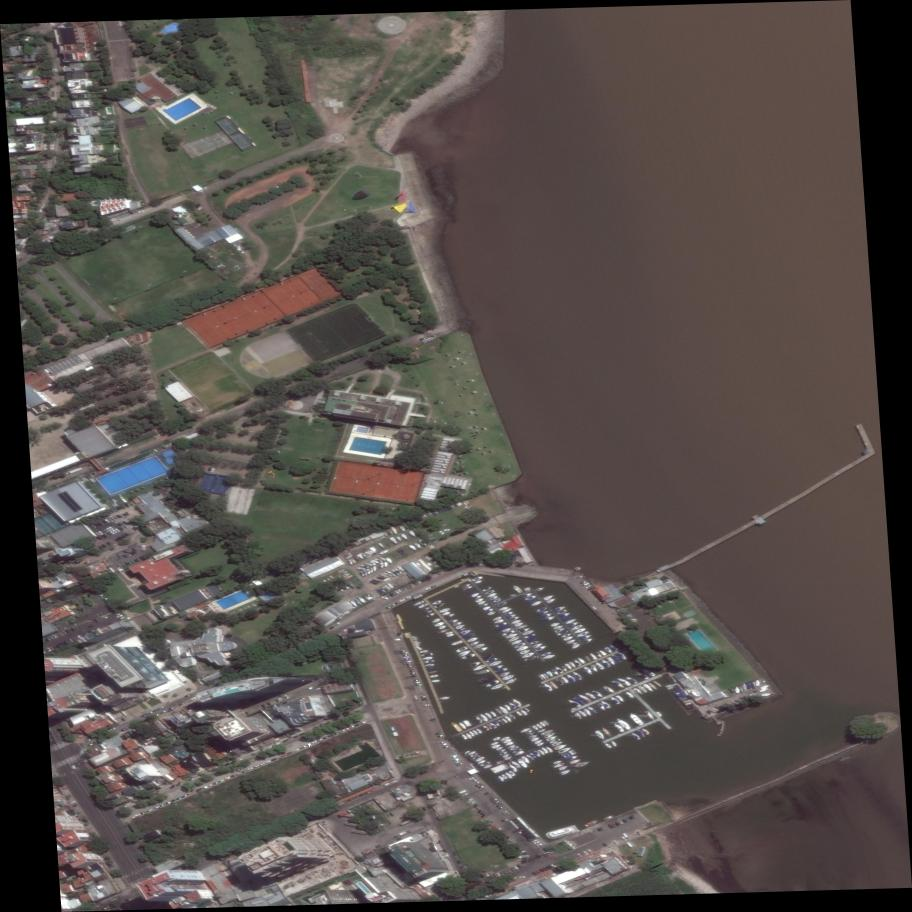large-vehicle: (141, 545, 146, 551)
ship: (544, 823, 580, 841), (626, 710, 645, 728), (614, 715, 632, 733), (450, 719, 464, 735), (615, 676, 633, 688), (642, 708, 656, 723), (634, 669, 651, 681), (612, 721, 626, 735), (593, 728, 607, 742), (576, 692, 592, 704), (567, 697, 583, 709), (510, 583, 524, 596), (600, 725, 613, 739), (571, 669, 584, 683), (564, 672, 578, 685), (613, 692, 627, 705), (599, 698, 613, 711), (594, 700, 608, 713), (510, 696, 523, 710), (573, 759, 591, 769), (641, 667, 657, 678), (484, 678, 500, 689), (457, 647, 473, 658), (583, 818, 599, 829), (593, 659, 606, 672), (642, 681, 655, 694), (609, 694, 622, 707), (586, 703, 599, 716), (516, 757, 529, 770), (520, 650, 536, 660), (500, 628, 516, 638), (610, 680, 626, 690), (640, 725, 652, 738), (616, 650, 629, 662), (610, 652, 622, 665), (600, 657, 612, 670), (587, 662, 599, 675), (582, 664, 594, 677), (637, 683, 649, 696), (581, 706, 593, 719), (625, 674, 639, 685), (509, 759, 523, 770), (557, 610, 572, 620), (552, 742, 567, 752), (539, 728, 554, 738), (523, 653, 538, 663), (590, 689, 605, 699), (554, 676, 566, 688), (634, 728, 646, 740), (630, 730, 642, 742), (553, 664, 565, 676), (605, 655, 617, 667), (471, 663, 487, 672), (460, 652, 476, 661), (497, 704, 509, 716), (576, 708, 589, 719), (534, 643, 548, 653), (570, 623, 584, 633), (507, 634, 521, 644), (602, 684, 616, 694), (572, 626, 587, 635), (557, 746, 572, 755), (542, 731, 557, 740), (515, 644, 530, 653), (512, 641, 527, 650), (488, 659, 503, 668), (462, 631, 477, 640), (542, 682, 554, 693), (559, 674, 570, 686), (647, 681, 659, 692), (573, 710, 584, 722), (417, 537, 428, 549), (520, 753, 531, 765), (508, 762, 519, 774), (506, 700, 518, 711), (493, 706, 505, 717), (462, 718, 473, 730), (518, 625, 531, 635), (585, 691, 598, 701), (482, 652, 495, 662), (436, 627, 452, 635), (523, 593, 537, 602), (576, 630, 590, 639), (542, 614, 556, 623), (509, 638, 523, 647), (469, 660, 483, 669), (455, 645, 469, 654), (501, 673, 515, 682), (498, 669, 512, 678), (475, 645, 489, 654), (576, 655, 587, 666), (633, 686, 644, 697), (624, 689, 635, 700), (388, 535, 399, 546), (407, 529, 418, 540), (503, 770, 514, 781), (536, 609, 551, 617), (578, 633, 593, 641), (552, 605, 567, 613), (504, 632, 519, 640), (493, 621, 508, 629), (608, 643, 620, 653), (475, 668, 490, 676), (479, 711, 489, 723), (531, 641, 544, 650), (495, 600, 508, 609), (564, 617, 577, 626), (542, 593, 555, 602), (553, 761, 566, 770), (559, 768, 572, 777), (545, 734, 558, 743), (505, 677, 518, 686), (495, 666, 508, 675), (492, 663, 505, 672), (523, 632, 537, 640), (520, 591, 534, 599), (521, 629, 535, 637), (555, 629, 569, 637), (550, 740, 564, 748), (548, 737, 562, 745), (518, 648, 532, 656), (580, 637, 594, 645), (490, 683, 504, 691), (472, 642, 486, 650), (652, 679, 663, 689), (588, 651, 598, 662), (572, 657, 582, 668), (550, 667, 560, 678), (603, 645, 614, 655), (408, 542, 418, 553), (496, 773, 506, 784), (536, 747, 546, 758), (540, 745, 550, 756), (502, 702, 512, 713), (474, 714, 484, 725), (458, 720, 468, 731), (505, 612, 517, 621), (530, 599, 542, 608), (554, 626, 566, 635), (482, 762, 494, 771), (541, 653, 556, 660), (540, 650, 553, 658), (507, 615, 520, 623), (535, 606, 548, 614), (567, 620, 580, 628), (565, 638, 578, 646), (471, 575, 484, 583), (412, 599, 425, 607), (450, 639, 463, 647), (433, 621, 446, 629), (478, 760, 491, 768), (485, 656, 498, 664), (466, 636, 479, 644), (459, 628, 472, 636), (453, 623, 466, 631), (450, 620, 463, 628), (443, 612, 456, 620), (430, 598, 443, 606), (433, 601, 446, 609), (598, 648, 608, 658), (564, 661, 574, 671), (545, 669, 555, 679), (357, 595, 367, 605), (525, 752, 535, 762), (507, 768, 517, 778), (532, 749, 542, 759), (545, 744, 555, 754), (504, 714, 514, 724), (488, 709, 498, 719), (488, 720, 498, 730), (390, 568, 401, 577), (390, 525, 399, 536), (474, 755, 485, 764), (520, 707, 529, 718), (335, 584, 346, 593), (515, 623, 529, 630), (556, 608, 568, 616), (545, 597, 557, 605), (562, 634, 574, 642), (567, 754, 579, 762), (491, 615, 503, 623), (759, 683, 771, 691), (343, 573, 355, 581), (379, 548, 391, 556), (529, 736, 541, 744), (519, 726, 531, 734), (513, 749, 525, 757), (494, 759, 506, 767), (540, 612, 553, 619), (560, 632, 573, 639), (549, 621, 562, 628), (500, 627, 513, 634), (438, 607, 451, 614), (593, 650, 603, 659), (568, 660, 577, 670), (385, 556, 394, 566), (400, 532, 409, 542), (528, 751, 538, 760), (484, 711, 493, 721), (464, 731, 473, 741), (498, 605, 509, 613), (571, 642, 582, 650), (486, 591, 497, 599), (470, 591, 481, 599), (558, 764, 569, 772), (481, 585, 492, 593), (533, 738, 544, 746), (431, 617, 442, 625), (501, 607, 513, 614), (569, 758, 581, 765), (462, 585, 474, 592), (483, 589, 495, 596), (493, 618, 505, 625), (420, 652, 434, 658), (511, 747, 523, 754), (508, 745, 520, 752), (448, 618, 460, 625), (440, 610, 452, 617), (535, 722, 544, 731), (604, 741, 613, 750), (500, 772, 509, 781), (508, 712, 517, 721), (487, 609, 497, 617), (353, 598, 363, 606), (438, 623, 448, 631), (528, 733, 538, 741), (525, 731, 535, 739), (497, 718, 505, 728), (534, 586, 545, 593), (513, 621, 524, 628), (568, 641, 579, 648), (492, 597, 503, 604), (488, 594, 499, 601), (461, 582, 472, 589), (536, 727, 547, 734), (474, 597, 485, 604), (479, 602, 490, 609), (477, 599, 488, 606), (386, 570, 397, 577), (395, 565, 406, 572), (476, 758, 487, 765), (504, 740, 515, 747), (502, 738, 513, 745), (500, 735, 511, 742), (491, 743, 502, 750), (510, 619, 522, 625), (552, 625, 564, 631), (542, 719, 550, 728), (610, 739, 618, 748), (560, 664, 568, 673), (350, 599, 358, 608), (423, 659, 435, 665), (394, 567, 403, 575), (377, 542, 386, 550), (414, 541, 422, 550), (399, 524, 407, 533), (501, 716, 509, 725), (515, 709, 523, 718), (461, 732, 469, 741), (468, 729, 476, 738), (475, 727, 484, 735), (504, 610, 514, 617), (482, 605, 492, 612), (759, 687, 769, 694), (341, 572, 351, 579), (421, 606, 431, 613), (469, 751, 479, 758), (503, 755, 513, 762), (499, 750, 509, 757), (497, 748, 507, 755), (492, 735, 502, 742), (470, 640, 480, 647), (423, 609, 434, 615), (418, 603, 429, 609), (438, 696, 451, 701), (539, 720, 547, 728), (655, 710, 663, 718), (531, 724, 539, 732), (387, 581, 395, 589), (383, 583, 391, 591), (395, 535, 403, 543), (493, 720, 501, 728), (485, 723, 493, 731), (482, 724, 490, 732), (485, 607, 494, 614), (536, 741, 545, 748), (749, 681, 756, 690), (337, 567, 346, 574), (368, 560, 377, 567), (344, 554, 353, 561), (502, 752, 511, 759), (472, 728, 479, 737), (458, 789, 468, 795), (553, 759, 563, 765), (473, 579, 483, 585), (426, 612, 436, 618), (364, 550, 374, 556), (358, 552, 368, 558), (428, 669, 438, 675), (467, 750, 477, 756), (507, 743, 517, 749), (490, 741, 500, 747), (357, 553, 365, 560), (350, 557, 357, 565), (347, 558, 354, 566), (322, 578, 330, 585), (343, 584, 351, 591), (529, 640, 540, 645), (419, 649, 430, 654), (422, 656, 433, 661), (474, 594, 483, 600), (340, 570, 349, 576), (366, 548, 375, 554), (378, 556, 387, 562), (379, 574, 389, 579), (360, 564, 370, 569), (446, 633, 456, 638), (429, 674, 439, 679), (369, 580, 379, 585), (377, 588, 384, 595), (348, 583, 355, 590), (382, 586, 389, 593), (380, 587, 387, 594), (734, 686, 740, 694), (359, 570, 365, 578), (525, 729, 533, 735), (328, 574, 336, 580), (742, 682, 747, 691), (381, 595, 390, 600), (382, 577, 391, 582), (445, 630, 454, 635), (371, 559, 380, 564), (374, 558, 383, 563), (495, 746, 504, 751), (371, 579, 380, 584), (424, 663, 435, 667), (430, 679, 441, 683), (746, 682, 751, 690), (383, 573, 393, 577), (416, 646, 424, 651), (524, 707, 530, 713), (755, 679, 760, 686), (366, 568, 371, 575), (384, 561, 389, 568), (414, 643, 421, 648), (761, 693, 772, 696), (365, 563, 373, 567), (412, 638, 420, 642), (414, 641, 422, 645), (363, 570, 368, 576), (356, 567, 366, 570), (464, 750, 470, 755), (327, 577, 332, 583), (432, 511, 437, 517), (428, 511, 433, 517), (428, 533, 434, 538), (429, 536, 435, 541), (431, 540, 438, 544), (428, 546, 435, 550), (376, 577, 385, 580), (446, 506, 451, 511), (421, 515, 426, 520), (463, 505, 468, 510), (465, 500, 470, 505), (463, 501, 468, 506), (370, 567, 374, 573), (373, 566, 377, 572), (380, 562, 384, 568), (430, 539, 438, 542), (427, 545, 433, 549), (411, 636, 419, 639), (426, 556, 432, 560), (448, 506, 453, 510), (423, 514, 428, 518), (438, 530, 443, 534), (441, 531, 445, 536), (450, 505, 455, 509), (458, 502, 463, 506), (425, 555, 430, 559), (447, 528, 451, 532), (444, 507, 448, 511), (441, 509, 445, 513), (438, 510, 442, 514), (435, 511, 439, 515), (454, 503, 458, 507), (457, 503, 461, 507), (425, 565, 429, 569), (428, 558, 433, 561), (443, 529, 448, 532), (433, 561, 438, 564), (426, 562, 431, 565), (418, 559, 423, 562), (419, 560, 424, 563), (415, 562, 420, 565), (428, 563, 432, 566), (421, 561, 425, 564), (423, 563, 427, 566), (424, 564, 428, 567), (426, 566, 430, 569), (428, 567, 432, 570), (417, 563, 421, 566), (429, 568, 432, 571), (422, 563, 426, 565), (429, 570, 433, 572)
small-vehicle: (622, 831, 631, 840), (97, 529, 105, 537), (621, 835, 629, 842), (587, 848, 594, 855), (94, 522, 101, 529), (104, 517, 111, 524), (115, 613, 123, 619), (306, 686, 314, 692), (164, 800, 172, 806), (390, 779, 399, 784), (383, 782, 392, 787), (353, 723, 362, 728), (195, 202, 201, 209), (467, 797, 473, 804), (591, 605, 598, 611), (328, 625, 335, 631), (424, 576, 431, 582), (421, 577, 428, 583), (602, 842, 609, 848), (577, 852, 583, 859), (612, 839, 619, 845), (91, 523, 97, 530), (85, 737, 92, 743), (140, 713, 147, 719), (95, 531, 101, 538), (108, 525, 115, 531), (106, 531, 113, 537), (95, 536, 102, 542), (117, 526, 124, 532), (122, 520, 129, 526), (122, 524, 129, 530), (76, 809, 83, 815), (322, 735, 329, 741), (283, 694, 290, 700), (83, 560, 91, 565), (490, 798, 498, 803), (474, 783, 482, 788), (455, 762, 463, 767), (582, 582, 590, 587), (550, 863, 558, 868), (118, 616, 126, 621), (157, 705, 165, 710), (159, 710, 167, 715), (190, 696, 198, 701), (310, 740, 318, 745), (292, 748, 300, 753), (223, 776, 231, 781), (159, 803, 167, 808), (153, 805, 161, 810), (121, 805, 129, 810), (264, 760, 272, 765), (252, 764, 260, 769), (136, 557, 142, 563), (127, 560, 133, 566), (121, 562, 127, 568), (118, 563, 124, 569), (197, 206, 203, 212), (98, 545, 104, 551), (470, 800, 476, 806), (485, 818, 491, 824), (479, 810, 485, 816), (516, 864, 522, 870), (496, 827, 502, 833), (397, 588, 403, 594), (436, 570, 442, 576), (427, 574, 433, 580), (416, 579, 422, 585), (485, 872, 491, 878), (583, 850, 589, 856), (580, 851, 586, 857), (542, 866, 548, 872), (636, 830, 642, 836), (618, 820, 624, 826), (46, 647, 52, 653), (49, 646, 55, 652), (120, 716, 126, 722), (77, 634, 83, 640), (63, 640, 69, 646), (101, 529, 107, 535), (106, 527, 112, 533), (111, 524, 117, 530), (115, 527, 121, 533), (110, 530, 116, 536), (106, 541, 112, 547), (102, 519, 108, 525), (108, 517, 114, 523), (110, 516, 116, 522), (113, 515, 119, 521), (114, 523, 120, 529), (75, 761, 81, 767), (386, 813, 392, 819), (468, 776, 475, 781), (503, 812, 510, 817), (405, 595, 412, 600), (399, 598, 406, 603), (334, 621, 341, 626), (576, 575, 583, 580), (100, 902, 107, 907), (88, 623, 95, 628), (98, 612, 105, 617), (72, 764, 77, 771), (121, 727, 128, 732), (146, 711, 153, 716), (178, 702, 185, 707), (69, 637, 74, 644), (112, 529, 119, 534), (121, 534, 128, 539), (119, 525, 126, 530), (134, 506, 141, 511), (116, 522, 123, 527), (119, 521, 126, 526), (333, 731, 340, 736), (72, 803, 79, 808), (360, 720, 367, 725), (299, 732, 306, 737), (369, 788, 376, 793), (240, 769, 247, 774), (230, 774, 237, 779), (202, 785, 209, 790), (181, 794, 188, 799), (170, 798, 177, 803), (146, 808, 153, 813), (140, 811, 147, 816), (134, 813, 141, 818), (70, 800, 77, 805), (236, 771, 243, 776), (237, 757, 244, 762), (247, 766, 254, 771), (346, 798, 353, 803), (438, 839, 443, 846), (124, 898, 131, 903), (271, 757, 278, 762), (258, 762, 265, 767), (535, 843, 543, 847), (545, 855, 553, 859), (543, 853, 551, 857), (476, 563, 484, 567), (280, 754, 288, 758), (343, 727, 351, 731), (338, 729, 346, 733), (299, 745, 307, 749), (286, 751, 294, 755), (377, 823, 385, 827), (379, 825, 387, 829), (40, 203, 45, 209), (122, 554, 128, 559), (142, 555, 147, 561), (124, 562, 130, 567), (488, 820, 493, 826), (481, 813, 486, 819), (477, 808, 482, 814), (475, 805, 480, 811), (473, 803, 478, 809), (501, 810, 507, 815), (496, 872, 501, 878), (503, 869, 508, 875), (507, 868, 512, 874), (510, 867, 516, 872), (513, 866, 519, 871), (391, 591, 397, 596), (389, 592, 394, 598), (430, 584, 436, 589), (425, 586, 431, 591), (394, 590, 400, 595), (402, 586, 408, 591), (558, 568, 564, 573), (419, 578, 425, 583), (413, 581, 419, 586), (493, 873, 498, 879), (482, 873, 487, 879), (545, 865, 551, 870), (539, 868, 545, 873), (532, 871, 538, 876), (461, 866, 467, 871), (459, 864, 465, 869), (631, 814, 636, 820), (628, 815, 633, 821), (625, 817, 631, 822), (622, 819, 628, 824), (615, 821, 620, 827), (608, 824, 613, 830), (600, 826, 605, 832), (50, 635, 55, 641), (53, 634, 58, 640), (61, 630, 67, 635), (65, 628, 70, 634), (70, 627, 75, 633), (87, 593, 92, 599), (169, 706, 175, 711), (103, 528, 109, 533), (104, 533, 110, 538), (101, 534, 107, 539), (98, 535, 104, 540), (93, 537, 99, 542), (124, 532, 130, 537), (100, 520, 105, 526), (116, 514, 122, 519), (440, 779, 445, 785), (274, 698, 280, 703), (267, 701, 272, 707), (244, 711, 250, 716), (261, 703, 266, 709), (213, 781, 219, 786), (176, 796, 182, 801), (422, 806, 427, 812), (389, 812, 395, 817), (433, 832, 438, 838), (442, 848, 447, 854), (131, 548, 138, 552), (122, 550, 129, 554), (128, 552, 135, 556), (125, 553, 132, 557), (462, 793, 469, 797), (478, 785, 485, 789), (473, 781, 480, 785), (470, 779, 477, 783), (495, 804, 502, 808), (533, 841, 540, 845), (531, 839, 538, 843), (587, 587, 594, 591), (580, 580, 587, 584), (389, 603, 396, 607), (419, 337, 426, 341), (542, 851, 549, 855), (107, 622, 114, 626), (102, 616, 109, 620), (101, 597, 108, 601), (99, 595, 106, 599), (97, 593, 104, 597), (87, 743, 94, 747), (109, 727, 116, 731), (152, 709, 159, 713), (132, 527, 139, 531), (136, 509, 143, 513), (327, 734, 334, 738), (316, 738, 323, 742), (349, 725, 356, 729), (268, 745, 275, 749), (281, 701, 288, 705), (293, 735, 300, 739), (282, 739, 289, 743), (275, 742, 282, 746), (364, 791, 371, 795), (358, 793, 365, 797), (218, 779, 225, 783), (207, 783, 214, 787), (196, 788, 203, 792), (129, 816, 136, 820), (352, 796, 359, 800), (381, 827, 388, 831), (251, 752, 258, 756), (144, 554, 149, 559), (139, 556, 144, 561), (133, 558, 138, 563), (588, 602, 593, 607), (505, 835, 510, 840), (493, 826, 498, 831), (400, 587, 405, 592), (409, 584, 414, 589), (405, 585, 410, 590), (612, 823, 617, 828), (597, 827, 602, 832), (101, 544, 106, 549), (47, 637, 52, 642), (98, 522, 103, 527), (114, 508, 119, 513), (52, 645, 57, 650), (60, 642, 65, 647), (58, 643, 63, 648), (55, 644, 60, 649), (116, 506, 121, 511), (119, 505, 124, 510), (122, 504, 127, 509), (117, 536, 122, 541), (115, 538, 120, 543), (103, 543, 108, 548), (125, 503, 130, 508), (123, 512, 128, 517), (125, 511, 130, 516), (413, 695, 418, 700), (278, 697, 283, 702), (440, 844, 445, 849), (130, 560, 136, 564), (493, 800, 499, 804), (484, 792, 490, 796), (498, 806, 504, 810), (522, 852, 528, 856), (520, 850, 526, 854), (387, 595, 393, 599), (394, 601, 400, 605), (385, 606, 391, 610), (324, 629, 330, 633), (536, 870, 542, 874), (517, 876, 525, 879), (114, 613, 120, 617), (138, 510, 144, 514), (435, 732, 443, 735), (315, 687, 321, 691), (186, 792, 192, 796), (365, 850, 371, 854), (445, 852, 449, 858), (137, 210, 144, 213), (132, 551, 139, 554), (116, 554, 123, 557), (501, 819, 508, 822), (394, 638, 401, 641), (401, 652, 408, 655), (402, 654, 409, 657), (403, 656, 410, 659), (404, 658, 411, 661), (408, 667, 415, 670), (407, 665, 414, 668), (410, 672, 417, 675), (423, 704, 430, 707), (429, 718, 436, 721), (440, 741, 447, 744), (411, 675, 418, 678), (421, 698, 428, 701), (188, 778, 195, 781), (39, 208, 43, 213), (500, 872, 505, 876), (509, 838, 513, 843), (491, 824, 496, 828), (548, 865, 553, 869), (453, 851, 457, 856), (111, 509, 115, 514), (120, 514, 125, 518), (444, 780, 448, 785), (447, 856, 451, 861), (109, 548, 115, 551), (454, 761, 460, 764), (521, 860, 527, 863), (406, 660, 412, 663), (409, 670, 415, 673), (185, 695, 191, 698), (133, 505, 139, 508), (438, 735, 444, 738), (441, 743, 447, 746), (414, 679, 420, 682), (416, 684, 422, 687), (489, 873, 493, 877), (457, 860, 461, 864), (431, 826, 435, 830), (130, 501, 133, 506), (400, 650, 407, 652), (405, 663, 412, 665), (412, 677, 419, 679), (414, 682, 421, 684), (522, 858, 528, 860), (523, 855, 529, 857), (511, 877, 517, 879), (104, 730, 110, 732), (147, 521, 153, 523), (421, 696, 427, 698), (119, 557, 124, 559), (444, 746, 449, 748), (54, 69, 56, 72)
storage-tank: (402, 434, 410, 440)
